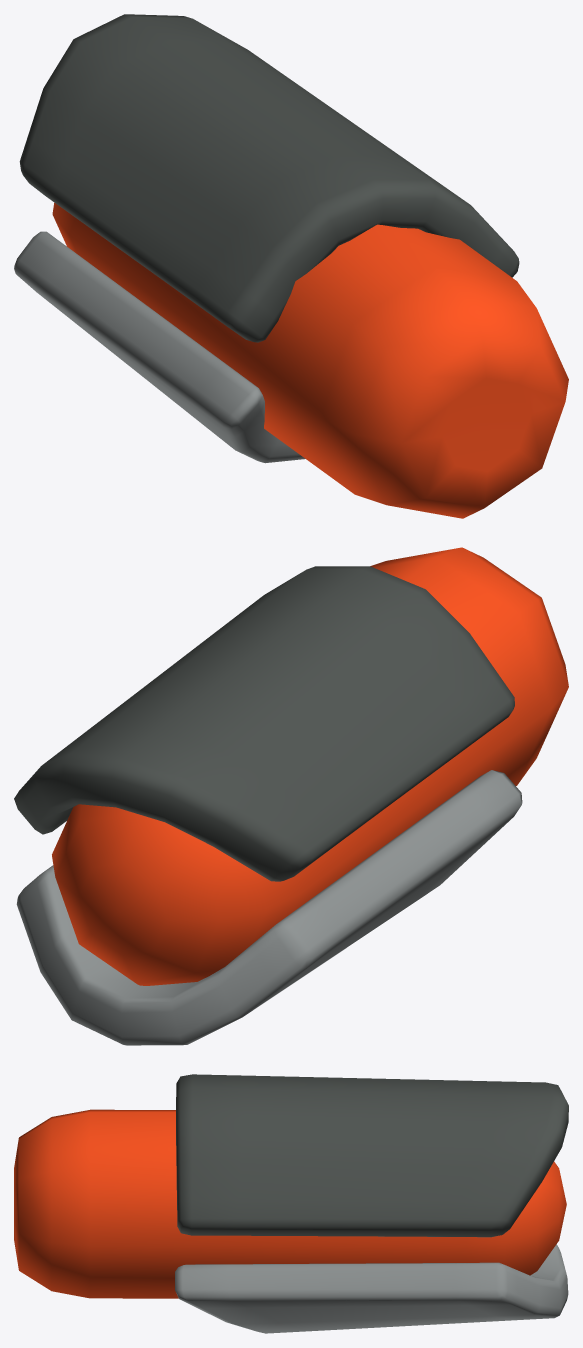
The model's file is xsens_LeftFifthPP.dae.
3 renders of one model, top to bottom at view 1: azimuth 30°, elevation 25°; view 2: azimuth 150°, elevation 25°; view 3: azimuth 270°, elevation 25°, orthographic. The views are drawn at different scales.
Visible parts, largest first — view 1: LeftFifthPP; view 2: LeftFifthPP; view 3: LeftFifthPP.
Part boxes in pixels (x1,y1,x2,y2): LeftFifthPP: (14,14,568,518); LeftFifthPP: (14,547,568,1045); LeftFifthPP: (14,1074,568,1333).
Bounding box in the file's own units: 0.0188 × 0.0404 × 0.0189.
